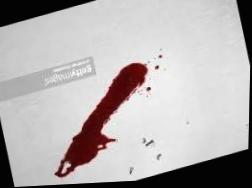Fire: (55, 63, 150, 178)
